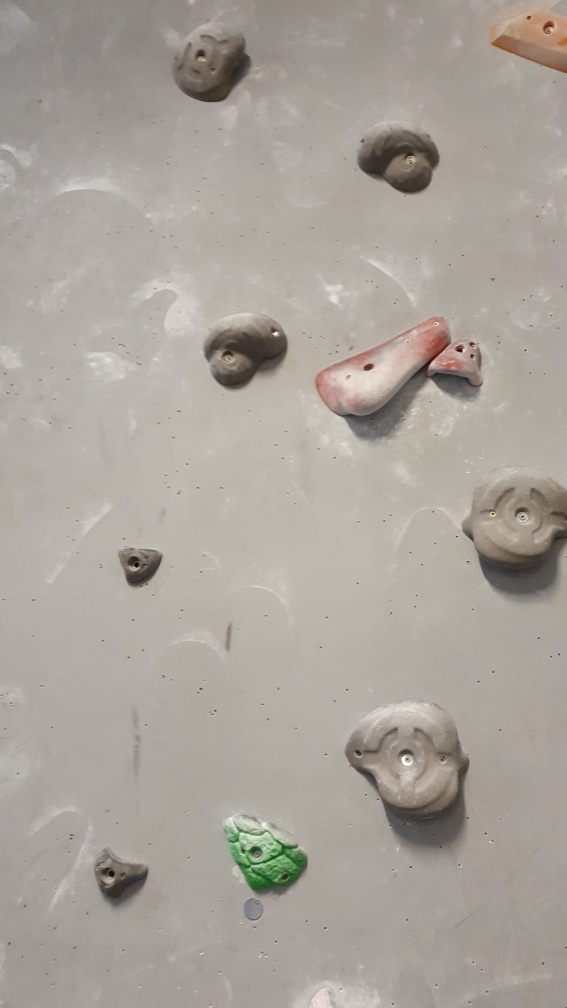Hand Start: (241, 896, 265, 925)
Jug: (346, 698, 472, 818), (462, 464, 567, 574), (201, 310, 290, 389), (356, 120, 443, 194), (171, 20, 248, 103), (424, 335, 488, 393)
Pinch: (487, 4, 567, 71)
